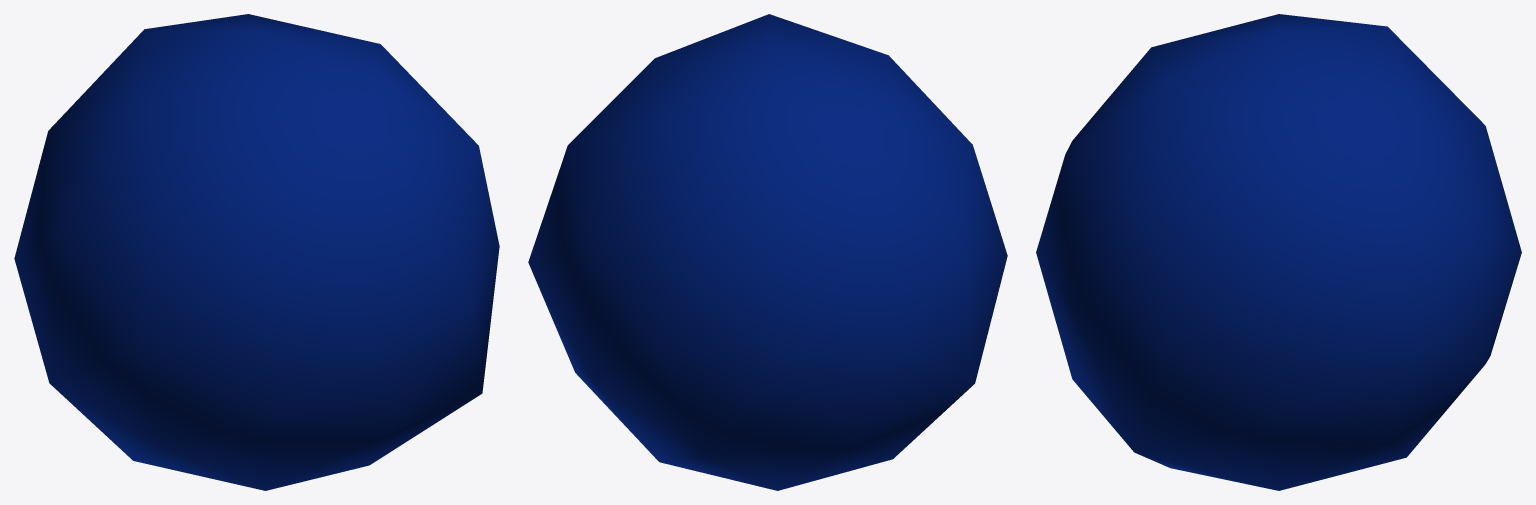
File: BulletBall_Ice.fbx
3 renders of one model, left to right at view 1: azimuth 30°, elevation 25°; view 2: azimuth 150°, elevation 25°; view 3: azimuth 270°, elevation 25°, orthographic. The views are drawn at different scales.
Visible parts, largest first — view 1: Sphere; view 2: Sphere; view 3: Sphere.
Boxes of the visible parts, <box> form: Sphere: <box>14,14,499,490</box>; Sphere: <box>528,14,1007,490</box>; Sphere: <box>1036,14,1521,490</box>.
Size of the model in its own units: 0.3337 by 0.3438 by 0.3438.
Materials: 1 (1 with a texture image).
